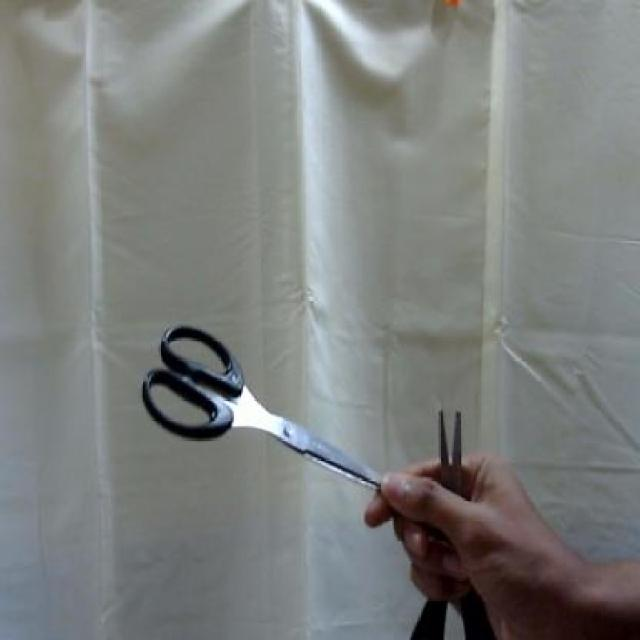Metal: (232, 383, 379, 491)
